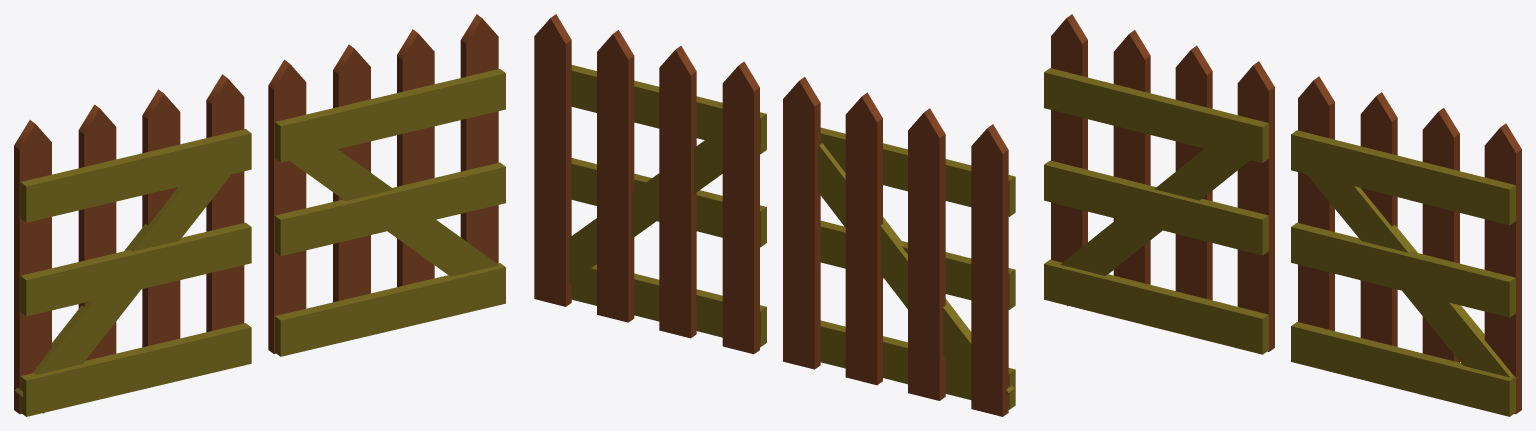
File: wood_gate.obj
3 renders of one model, left to right at view 1: azimuth 30°, elevation 25°; view 2: azimuth 150°, elevation 25°; view 3: azimuth 330°, elevation 25°, orthographic.
Visible parts, largest first — view 1: wood_gate group46 wood_gate_R w3_1, wood_gate_L wood_gate group46 w3, wood_gate group46 wood_gate_R w5_1, wood_gate_L wood_gate group46 w5, wood_gate group46 wood_gate_R w6_1, wood_gate_L wood_gate group46 w6, w1 wood_gate_L wood_gate group46, wood_gate group46 w1_1 wood_gate_R, wood_gate group46 wood_gate_R w4_1, wood_gate group46 wood_gate_R w8_1, wood_gate_L wood_gate group46 w4, wood_gate_L wood_gate group46 w8 (+4 smaller); view 2: w1 wood_gate_L wood_gate group46, wood_gate group46 w1_1 wood_gate_R, wood_gate group46 wood_gate_R w7_1, wood_gate_L wood_gate group46 w7, wood_gate_L wood_gate group46 w2, wood_gate_L wood_gate group46 w8, wood_gate group46 wood_gate_R w8_1, wood_gate group46 wood_gate_R w2_1, wood_gate group46 wood_gate_R w4_1, wood_gate_L wood_gate group46 w4, wood_gate_L wood_gate group46 w3, wood_gate_L wood_gate group46 w6 (+4 smaller); view 3: wood_gate_L wood_gate group46 w3, wood_gate group46 wood_gate_R w3_1, wood_gate_L wood_gate group46 w5, wood_gate group46 wood_gate_R w6_1, wood_gate group46 wood_gate_R w5_1, wood_gate_L wood_gate group46 w6, wood_gate group46 wood_gate_R w8_1, wood_gate_L wood_gate group46 w4, wood_gate_L wood_gate group46 w8, wood_gate group46 w1_1 wood_gate_R, w1 wood_gate_L wood_gate group46, wood_gate group46 wood_gate_R w4_1 (+4 smaller).
Boxes of the visible parts, x1,y1,x2,y2 form: wood_gate group46 wood_gate_R w3_1: (20, 129, 251, 222); wood_gate_L wood_gate group46 w3: (275, 69, 505, 162); wood_gate group46 wood_gate_R w5_1: (20, 222, 251, 316); wood_gate_L wood_gate group46 w5: (275, 162, 505, 256); wood_gate group46 wood_gate_R w6_1: (20, 323, 251, 416); wood_gate_L wood_gate group46 w6: (275, 263, 505, 356); w1 wood_gate_L wood_gate group46: (268, 59, 306, 353); wood_gate group46 w1_1 wood_gate_R: (14, 120, 51, 414); wood_gate group46 wood_gate_R w4_1: (14, 174, 231, 413); wood_gate group46 wood_gate_R w8_1: (206, 74, 244, 332); wood_gate_L wood_gate group46 w4: (289, 149, 498, 276); wood_gate_L wood_gate group46 w8: (460, 14, 498, 263); w1 wood_gate_L wood_gate group46: (722, 61, 759, 354); wood_gate group46 w1_1 wood_gate_R: (971, 124, 1008, 416); wood_gate group46 wood_gate_R w7_1: (845, 92, 882, 385); wood_gate_L wood_gate group46 w7: (597, 30, 634, 322); wood_gate_L wood_gate group46 w2: (659, 46, 696, 338); wood_gate_L wood_gate group46 w8: (534, 14, 571, 306); wood_gate group46 wood_gate_R w8_1: (783, 77, 820, 369); wood_gate group46 wood_gate_R w2_1: (908, 108, 945, 400); wood_gate group46 wood_gate_R w4_1: (818, 143, 1014, 394); wood_gate_L wood_gate group46 w4: (568, 128, 722, 283); wood_gate_L wood_gate group46 w3: (571, 65, 766, 154); wood_gate_L wood_gate group46 w6: (571, 264, 766, 347); wood_gate_L wood_gate group46 w3: (1291, 130, 1515, 225); wood_gate group46 wood_gate_R w3_1: (1044, 68, 1268, 162); wood_gate_L wood_gate group46 w5: (1291, 222, 1515, 317); wood_gate group46 wood_gate_R w6_1: (1044, 259, 1268, 354); wood_gate group46 wood_gate_R w5_1: (1044, 160, 1268, 255); wood_gate_L wood_gate group46 w6: (1291, 322, 1515, 416); wood_gate group46 wood_gate_R w8_1: (1237, 61, 1274, 351); wood_gate_L wood_gate group46 w4: (1307, 174, 1517, 377); wood_gate_L wood_gate group46 w8: (1484, 123, 1521, 413); wood_gate group46 w1_1 wood_gate_R: (1051, 14, 1087, 262); w1 wood_gate_L wood_gate group46: (1298, 76, 1334, 331); wood_gate group46 wood_gate_R w4_1: (1060, 148, 1249, 306).
Bounding box in the file's own units: 418 × 241 × 24.77.
